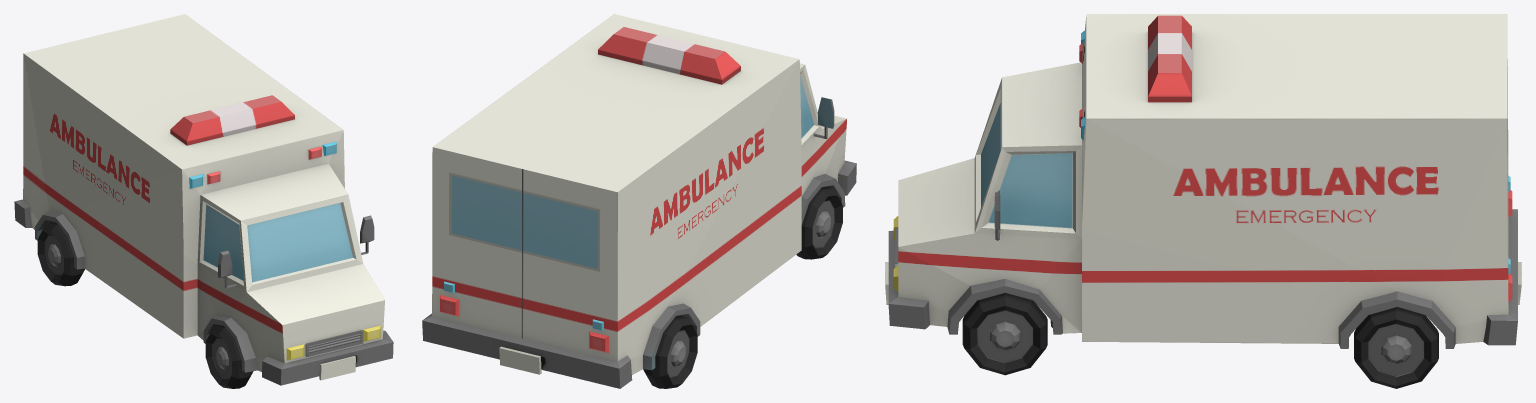
The model's file is Ambulance.gltf.
3 renders of one model, left to right at view 1: azimuth 30°, elevation 25°; view 2: azimuth 150°, elevation 25°; view 3: azimuth 270°, elevation 25°, orthographic. The views are drawn at different scales.
Parts seen in each view (by area): view 1: node-0; view 2: node-0; view 3: node-0.
Boxes of the visible parts, left/top/right/bottom form: node-0: left=14, top=14, right=393, bottom=388; node-0: left=422, top=14, right=856, bottom=388; node-0: left=885, top=14, right=1521, bottom=388.
Bounding box in the file's own units: 9.73 × 10.53 × 21.12.
1 material, 1 textured.
